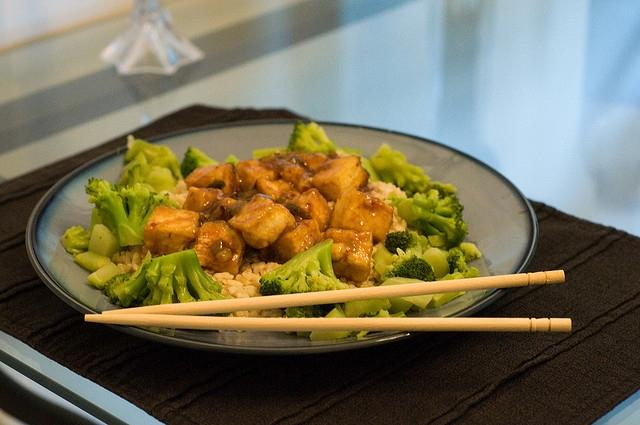broccoli: (259, 239, 350, 318), (84, 176, 180, 246), (141, 248, 232, 316), (398, 182, 468, 247), (370, 143, 430, 198), (116, 150, 178, 193), (124, 140, 183, 180), (104, 259, 152, 308), (384, 247, 438, 282), (310, 302, 352, 341), (288, 120, 336, 154), (180, 147, 219, 178), (88, 224, 120, 258), (60, 226, 92, 258), (341, 298, 392, 318), (87, 262, 122, 290), (384, 228, 418, 255), (422, 247, 450, 278), (74, 250, 110, 272), (446, 248, 470, 274), (252, 146, 294, 160), (388, 297, 413, 315)
